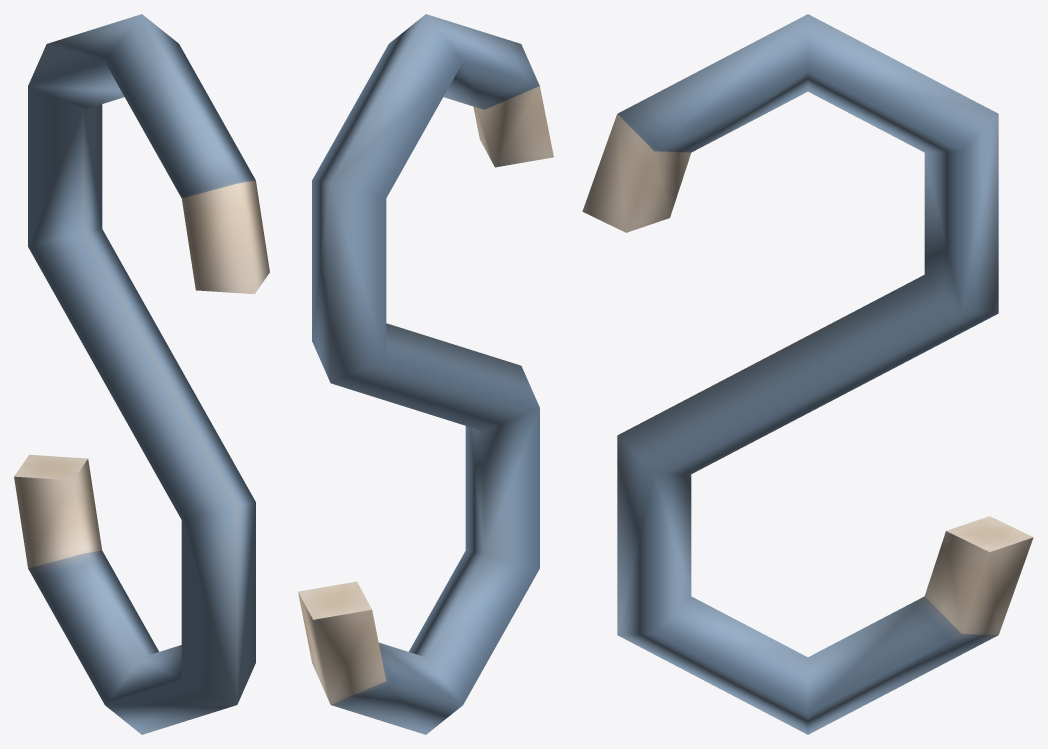
The model's file is jsf_Hook_01.fbx.
3 renders of one model, left to right at view 1: azimuth 30°, elevation 25°; view 2: azimuth 150°, elevation 25°; view 3: azimuth 270°, elevation 25°, orthographic.
Visible parts, largest first — view 1: jsf_Hook_01; view 2: jsf_Hook_01; view 3: jsf_Hook_01.
Part boxes in pixels (<box>): jsf_Hook_01: <box>14,14,269,734</box>; jsf_Hook_01: <box>298,14,553,734</box>; jsf_Hook_01: <box>582,14,1033,734</box>.
Size of the model in its own units: 0.8753 by 8.13 by 4.61.
